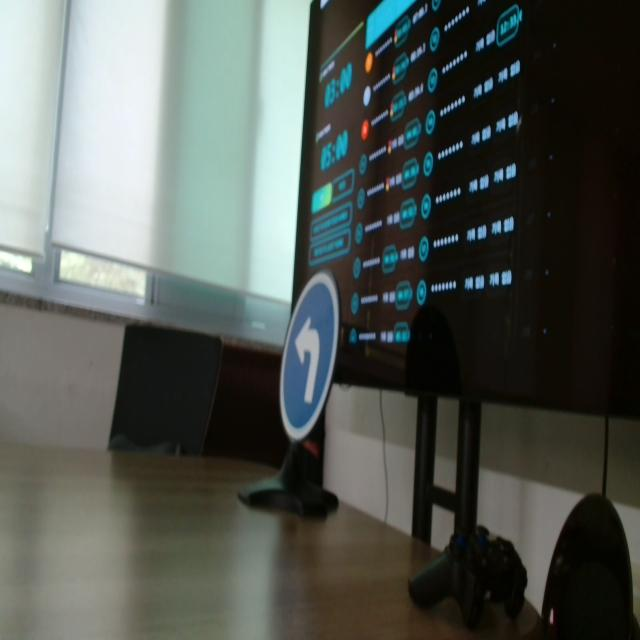left_direction: (273, 254, 364, 479)
